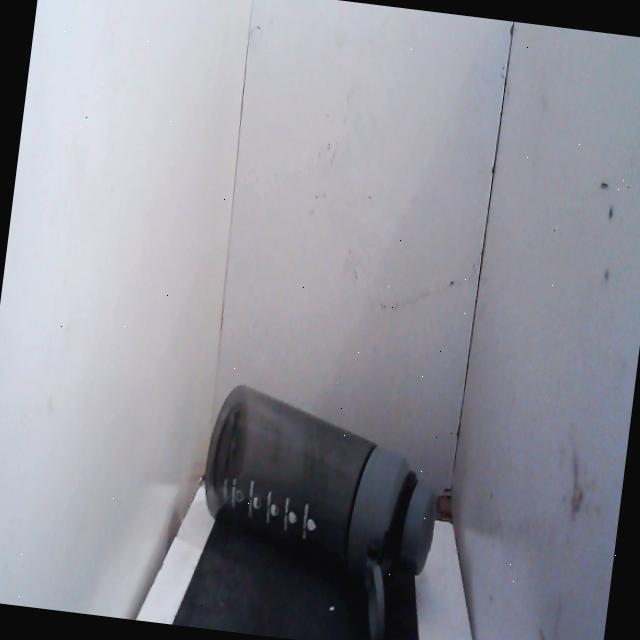plastic: (174, 375, 476, 640)
